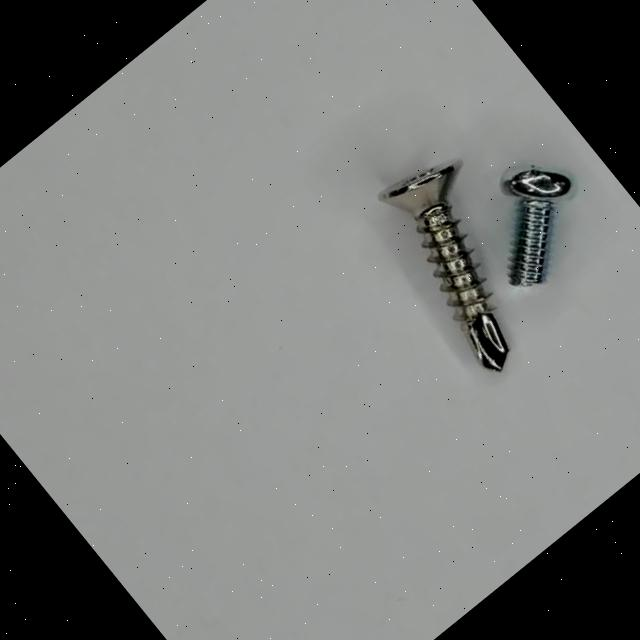Screw: (378, 163, 509, 371), (502, 168, 572, 286)
